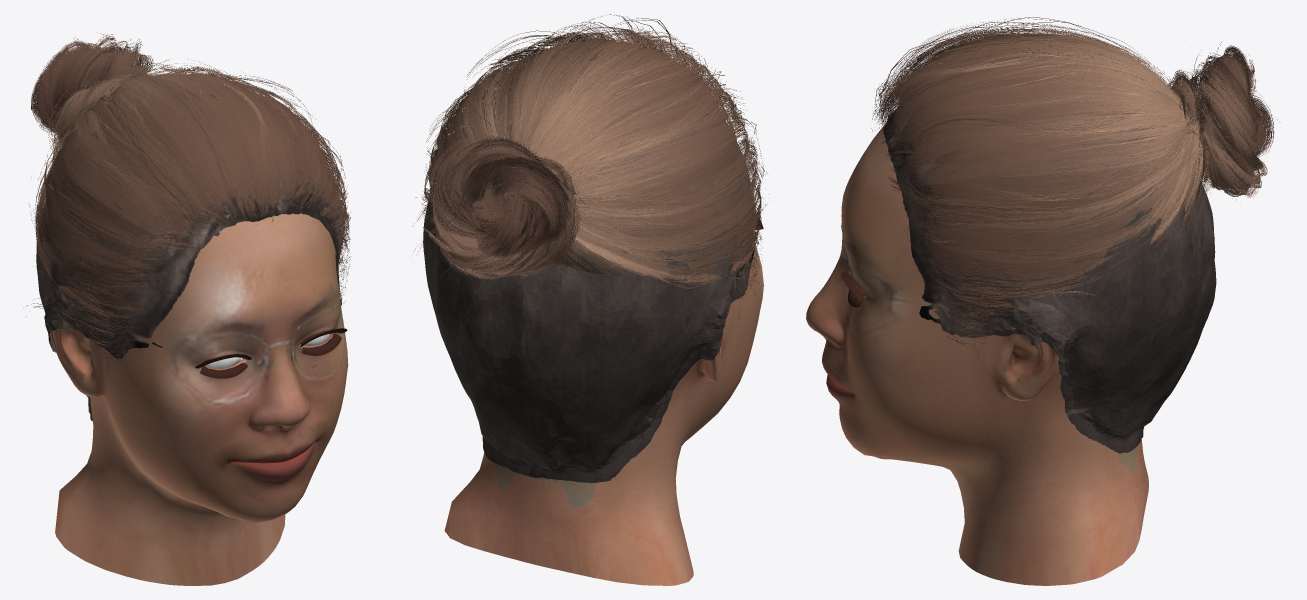
Rendered from QiangUnity 1.fbx.
3 views of the same model, side by side, from view 1: azimuth 30°, elevation 25°; view 2: azimuth 150°, elevation 25°; view 3: azimuth 270°, elevation 25° (orthographic). The views are drawn at different scales.
Parts seen in each view (by area): view 1: CC_Base_Body.373, Hair_Base, Haircut, Bun; view 2: Hair_Base, Haircut, CC_Base_Body.373, Bun; view 3: Hair_Base, CC_Base_Body.373, Haircut, Bun.
Boxes of the visible parts, <box> form: CC_Base_Body.373: <box>50,213,348,585</box>; Hair_Base: <box>26,59,350,376</box>; Haircut: <box>36,99,341,420</box>; Bun: <box>31,32,156,157</box>; Hair_Base: <box>412,14,770,510</box>; Haircut: <box>423,60,756,483</box>; CC_Base_Body.373: <box>444,208,763,585</box>; Bun: <box>415,132,589,296</box>; Hair_Base: <box>871,17,1213,472</box>; CC_Base_Body.373: <box>806,122,1148,585</box>; Haircut: <box>883,53,1216,453</box>; Bun: <box>1166,42,1280,197</box>.
Bounding box in the file's own units: 2080 × 3251 × 2733.
